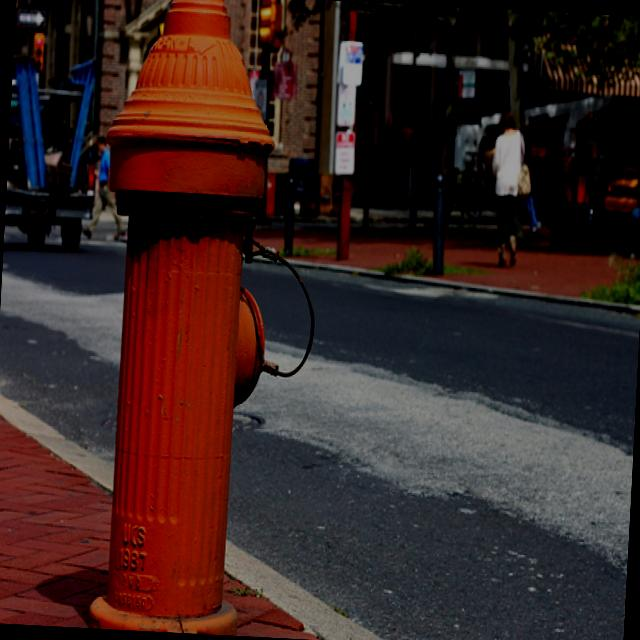Vehicle: (3, 48, 106, 252), (520, 135, 640, 225), (602, 154, 640, 215)
